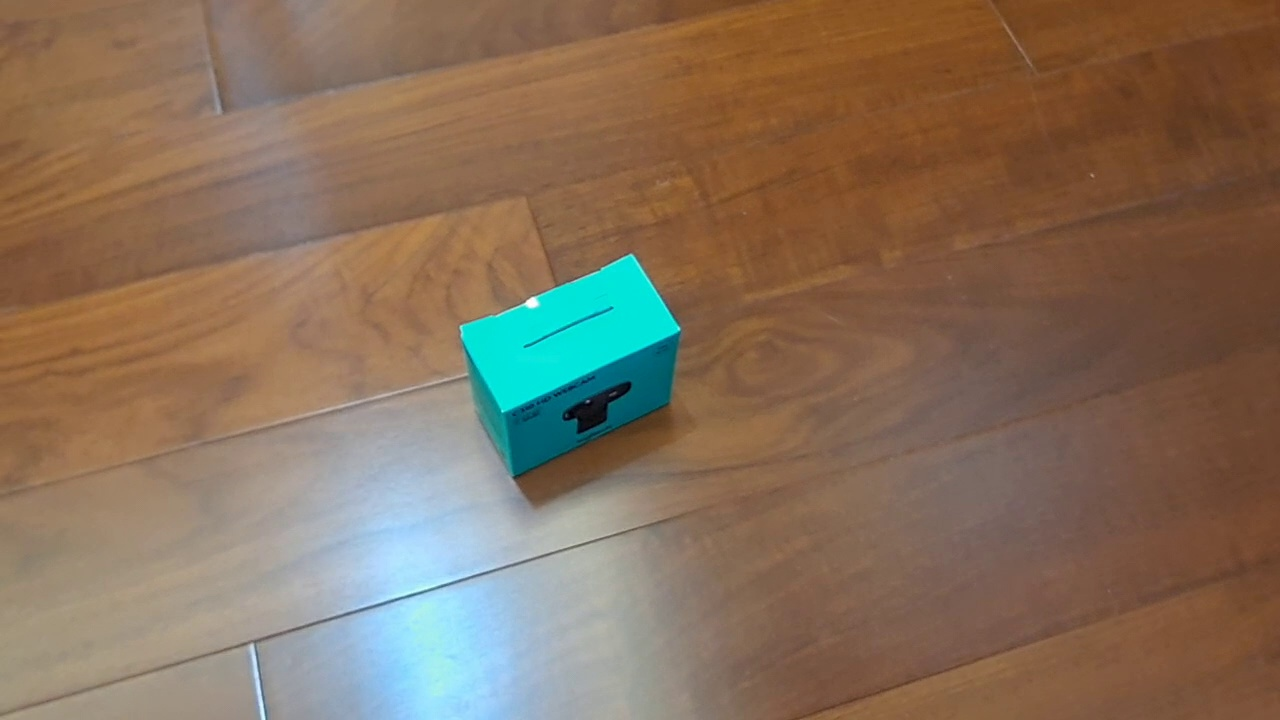webcam: (458, 252, 682, 480)
